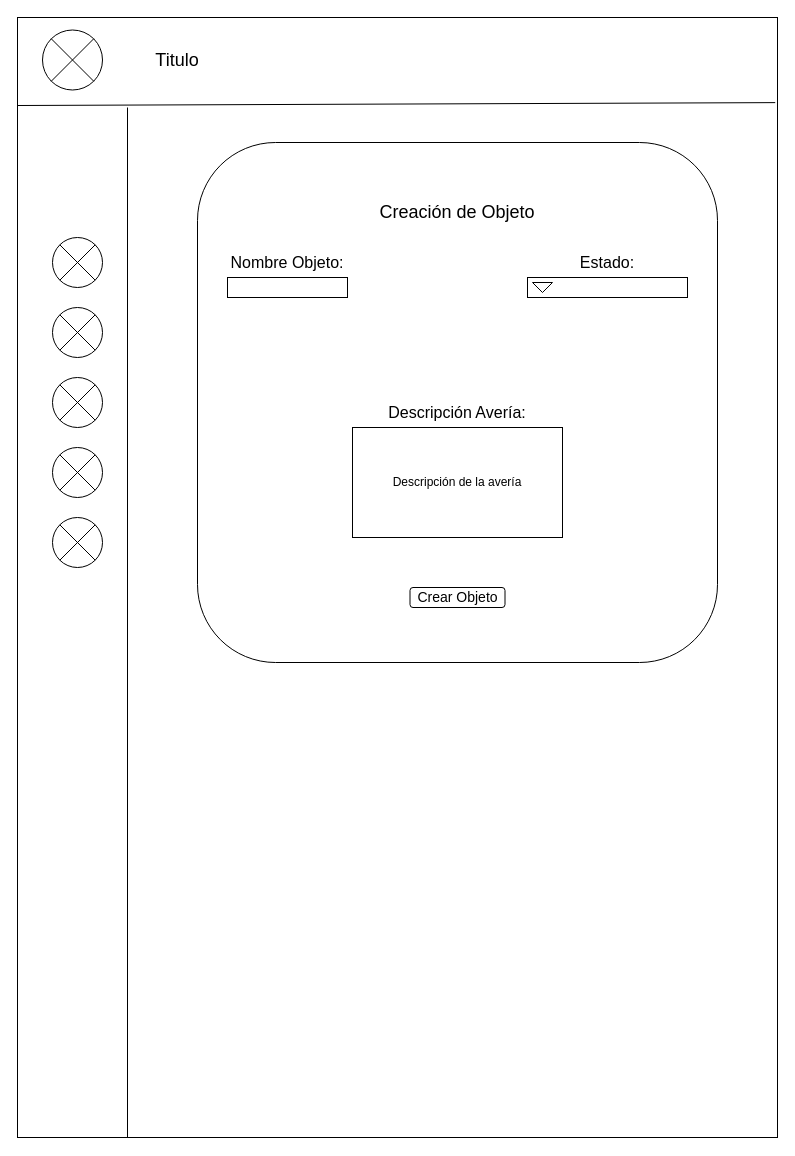
The diagram is 795 pixels wide and 1156 high, and some of its shapes have lost their labels. Each missing label, with the box of its shape:
Elige un estado: (526, 276, 688, 298)
Nombre de Objeto: (226, 276, 348, 298)
